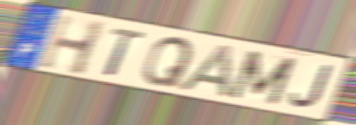A: (176, 43, 235, 101)
H: (36, 12, 109, 78)
J: (287, 63, 335, 110)
M: (226, 48, 300, 107)
Q: (141, 35, 197, 89)
T: (102, 26, 148, 79)
